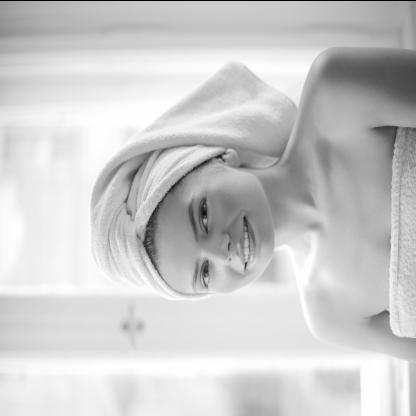Eye: (194, 196, 210, 236), (198, 256, 213, 294)
Mouth: (236, 209, 258, 275)
Nose: (201, 229, 234, 266)
